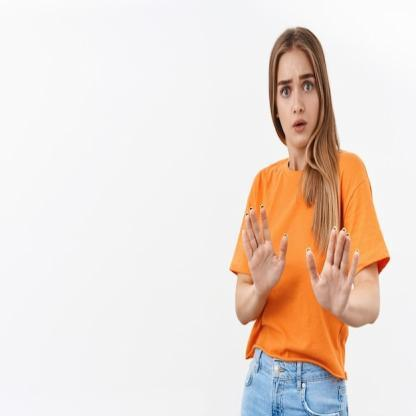stop: (304, 224, 360, 315), (238, 198, 290, 294)
